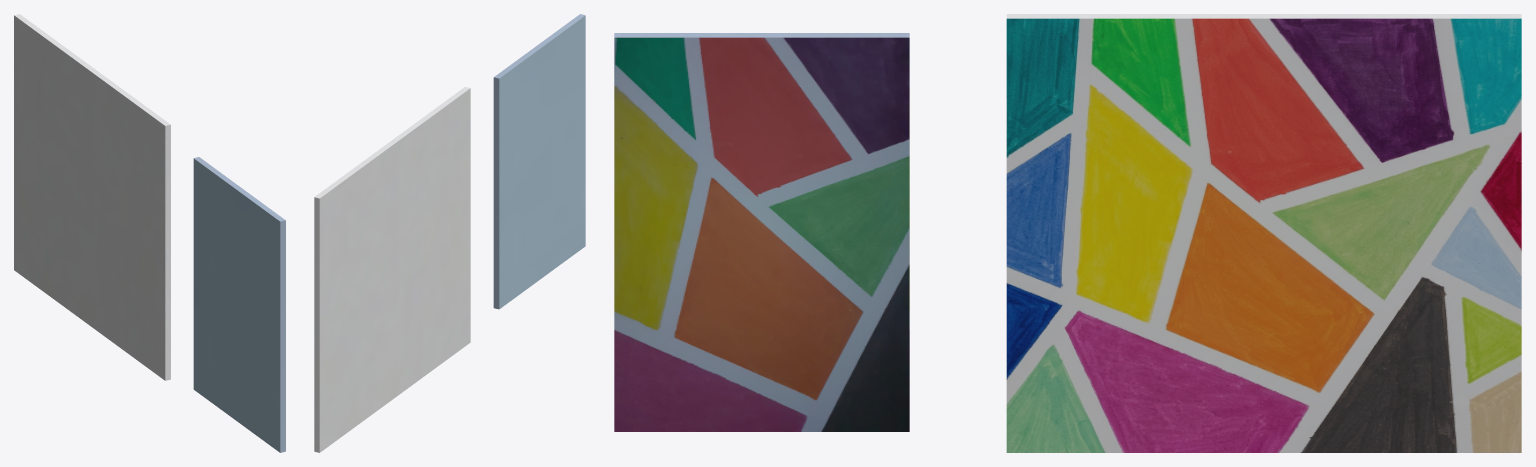
Rendered from abstract_geometric_canvas_paintings_low_poly.glb.
The picture shows the model from 3 angles, left to right: view 1: azimuth 30°, elevation 25°; view 2: azimuth 150°, elevation 25°; view 3: azimuth 270°, elevation 25°; orthographic projection. The views are drawn at different scales.
Parts seen in each view (by area): view 1: SM_tablo_1_1, SM_tablo_2_0; view 2: SM_tablo_1_1, SM_tablo_2_0; view 3: SM_tablo_1_1, SM_tablo_2_0.
Boxes of the visible parts, x1,y1,x2,y2 form: SM_tablo_1_1: [14, 14, 170, 380]; SM_tablo_2_0: [193, 157, 285, 452]; SM_tablo_1_1: [314, 87, 470, 452]; SM_tablo_2_0: [493, 14, 585, 309]; SM_tablo_1_1: [1006, 14, 1521, 452]; SM_tablo_2_0: [614, 33, 909, 431].
Size of the model in its own units: 0.0564 by 2.36 by 4.47.
2 materials, 2 textured.
